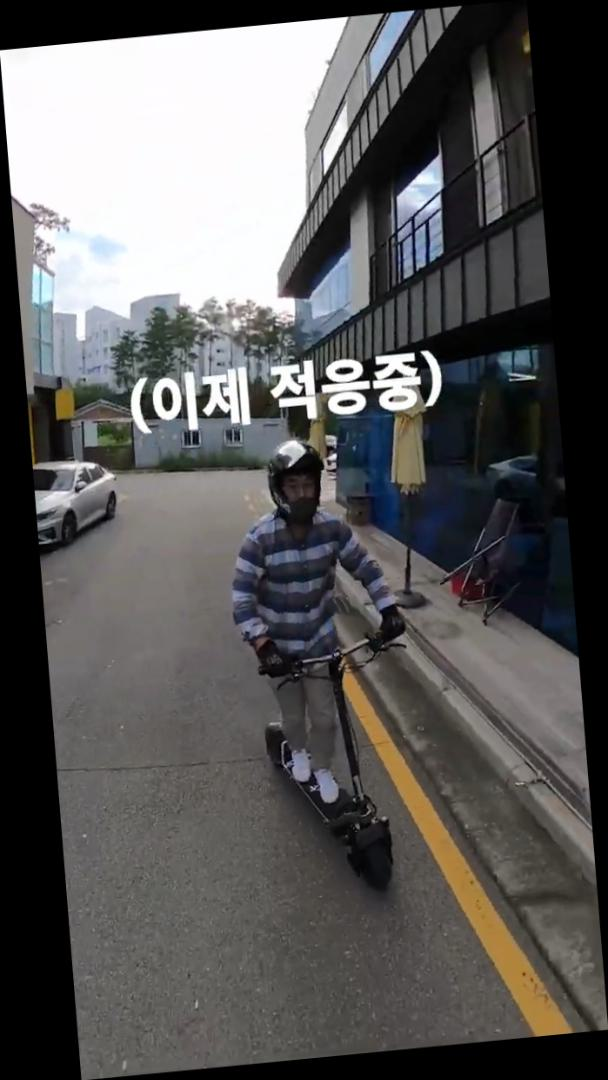helmet: (214, 429, 430, 904)
